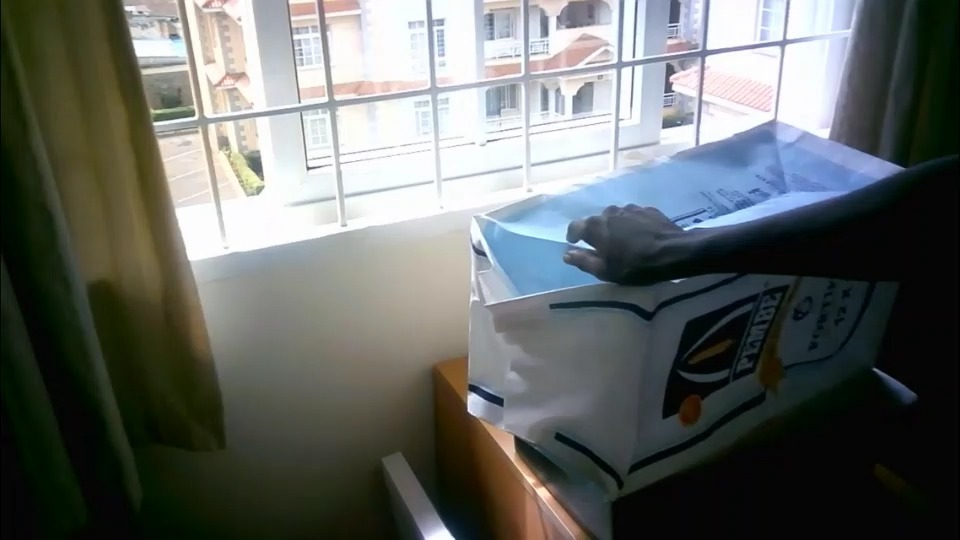wheat_flour_blue_label: (467, 119, 914, 501)
